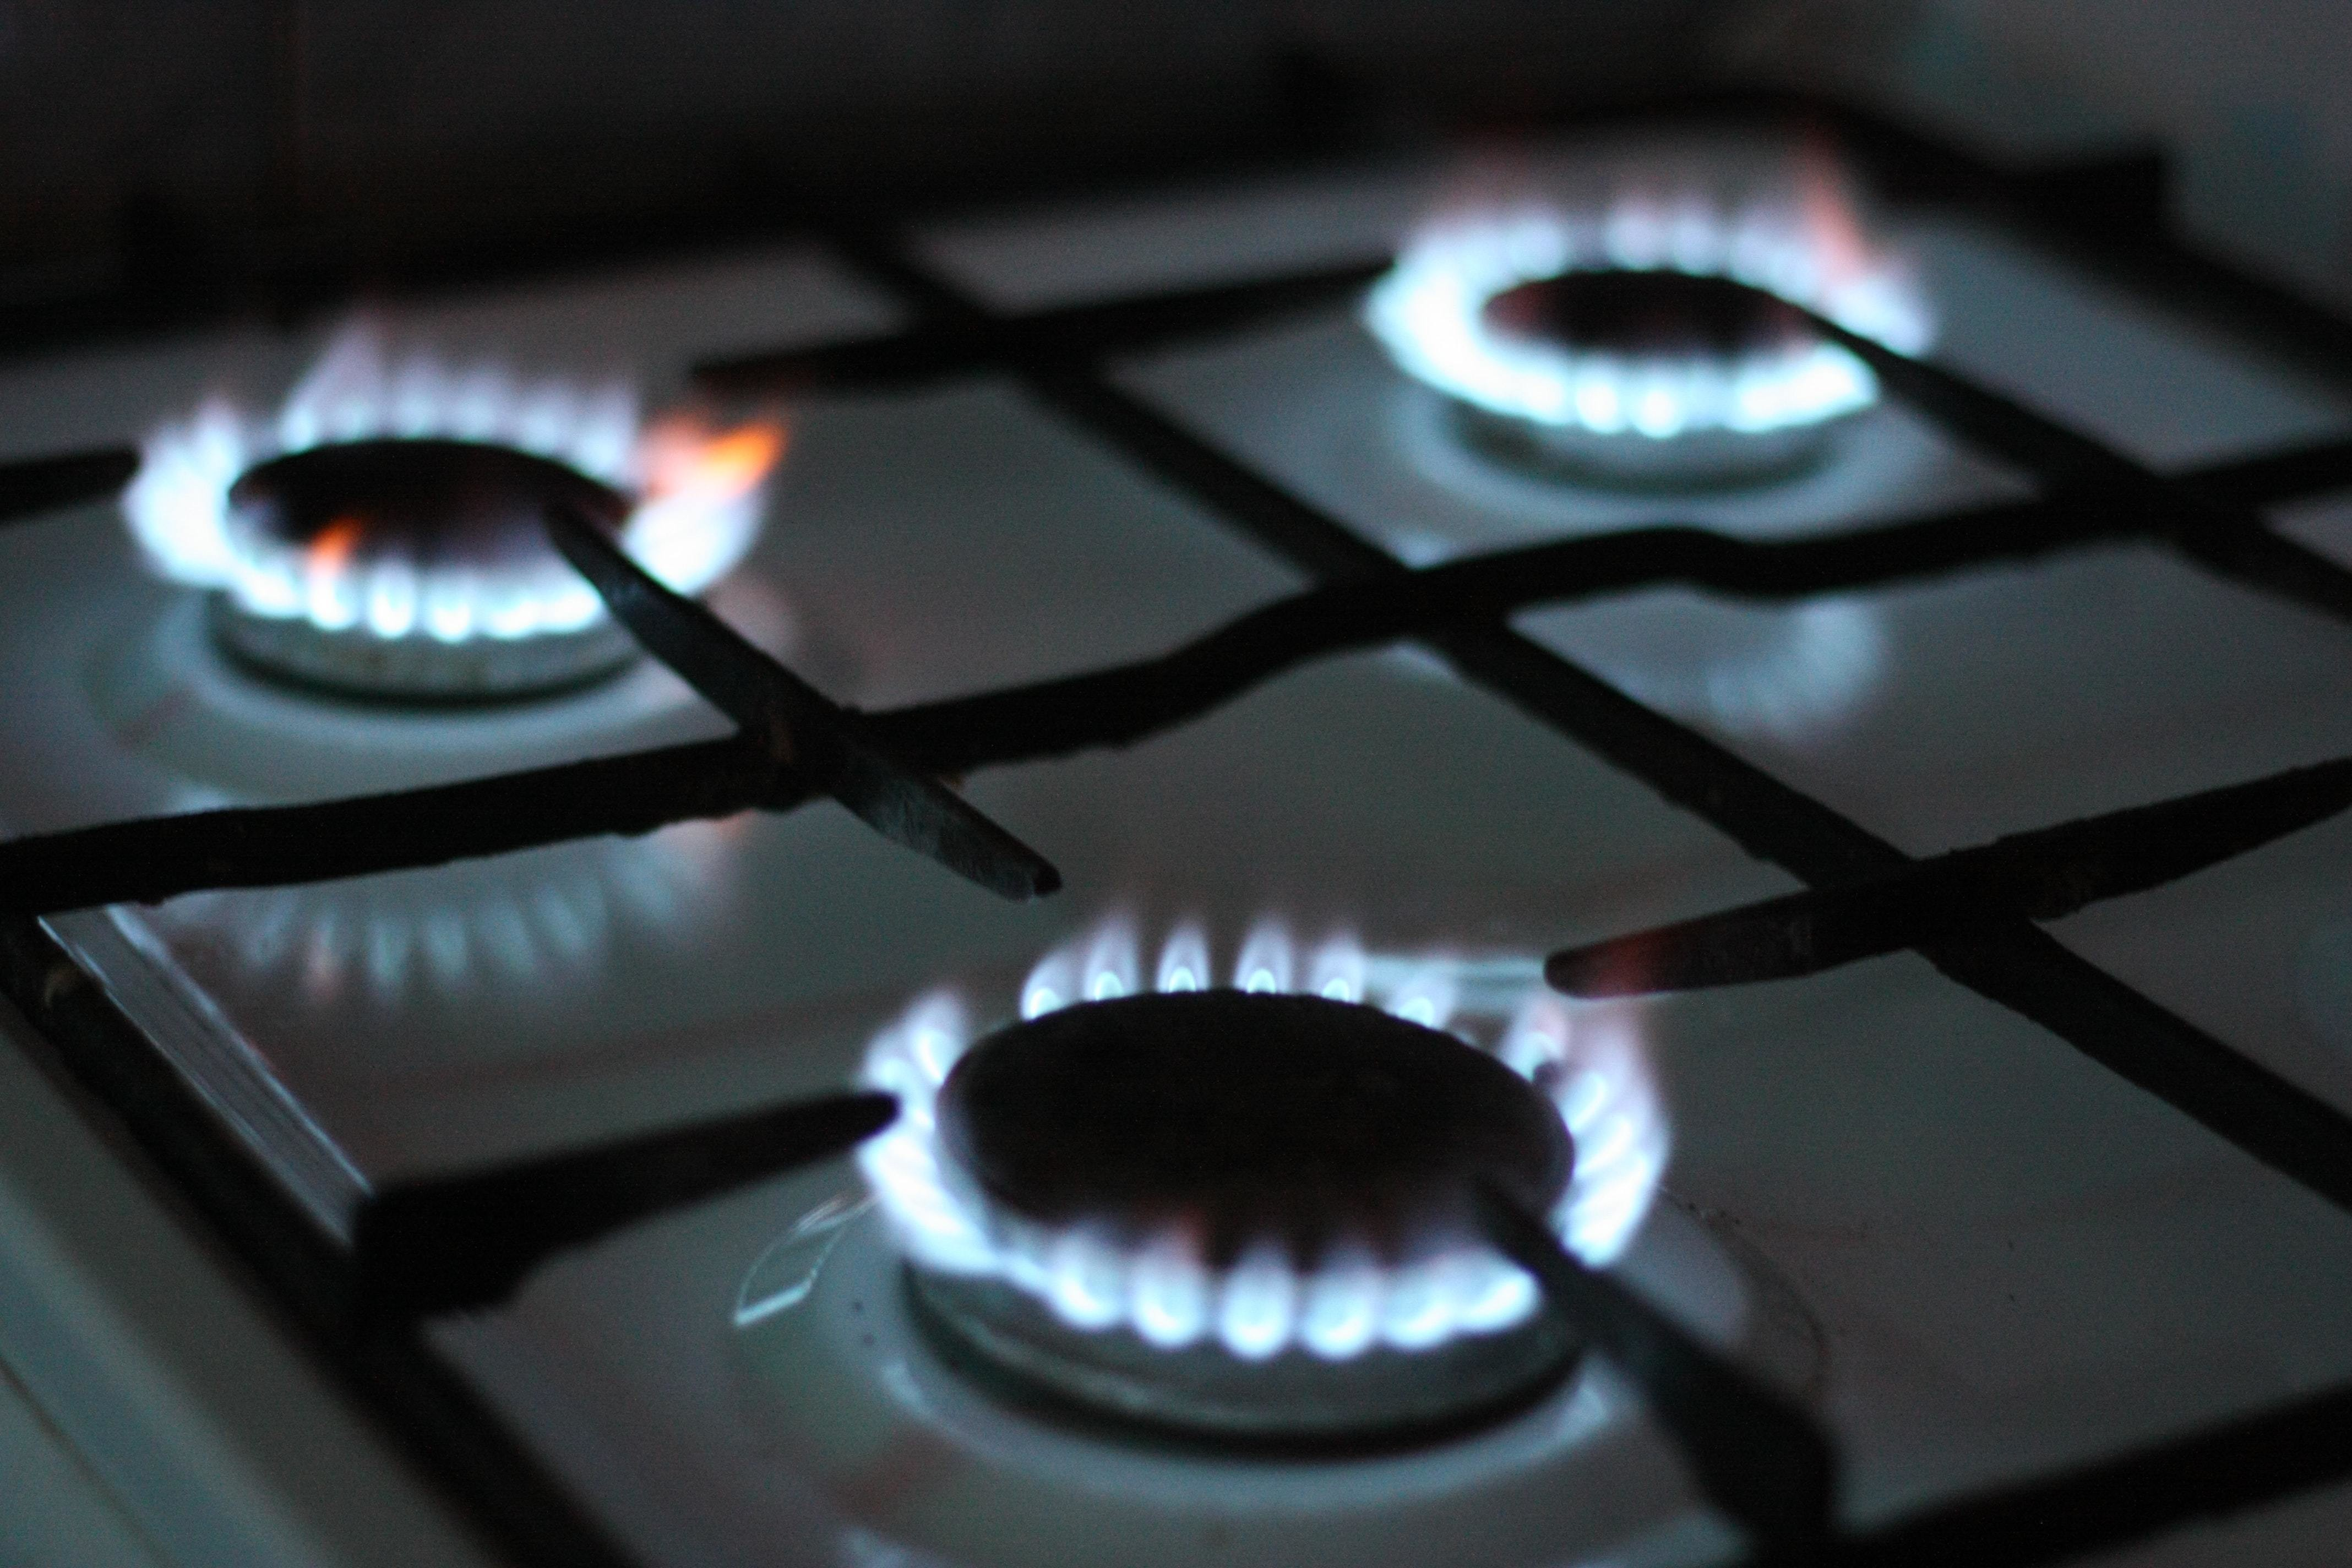stove: (17, 42, 2326, 1554)
